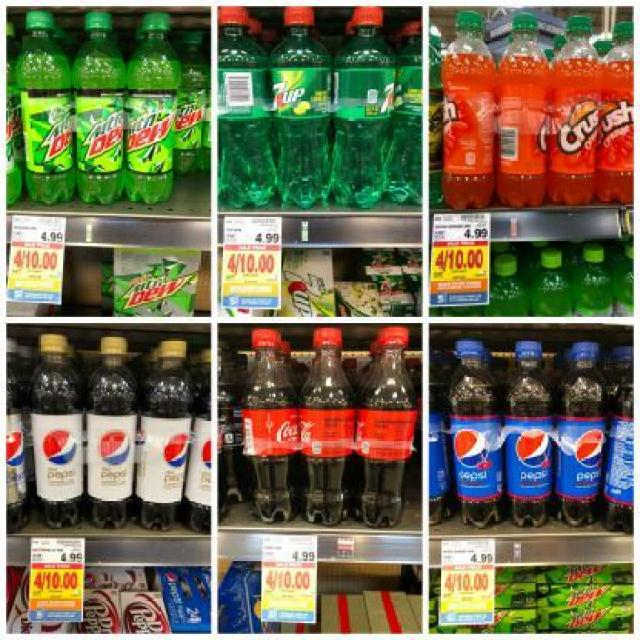Drinks: (332, 5, 394, 208), (269, 5, 331, 208), (357, 328, 417, 529), (218, 7, 278, 207), (15, 12, 76, 205), (448, 338, 506, 530), (298, 328, 354, 526), (29, 333, 85, 529), (242, 328, 298, 522), (137, 338, 192, 532), (84, 335, 138, 531), (127, 11, 179, 207), (75, 11, 127, 207), (555, 341, 608, 528), (506, 340, 556, 528)
